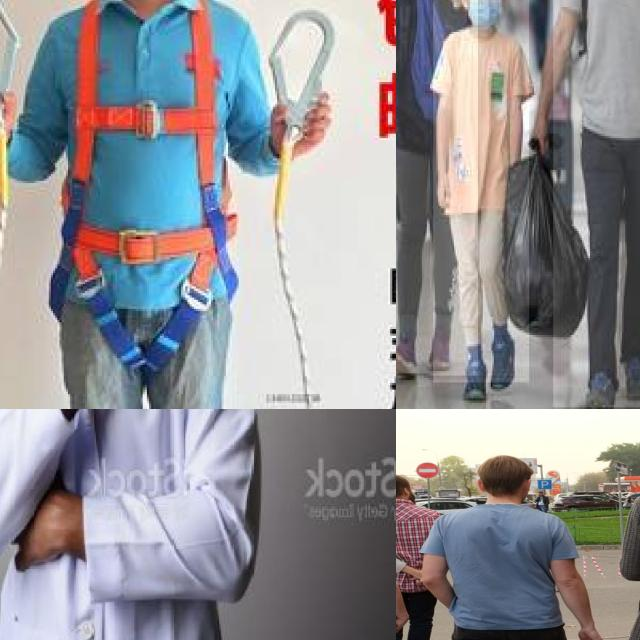Harness: (68, 0, 255, 359)
face_mask: (466, 0, 500, 29)
hand_noglove: (529, 109, 553, 156), (430, 171, 454, 214)
person: (0, 409, 267, 640), (433, 0, 530, 384), (553, 0, 640, 409), (396, 0, 478, 375)
shoes: (487, 317, 522, 391), (423, 318, 456, 381), (460, 341, 490, 408), (578, 367, 623, 409), (396, 329, 422, 385), (619, 338, 640, 403)
